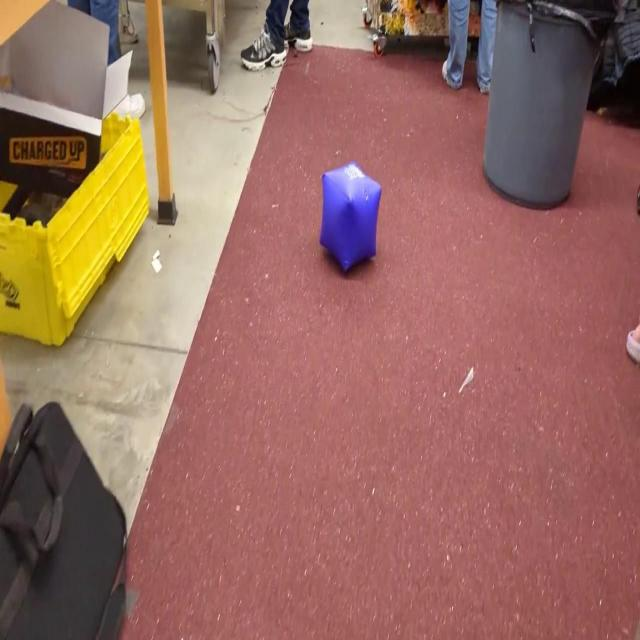frc_cube: (320, 158, 382, 278)
